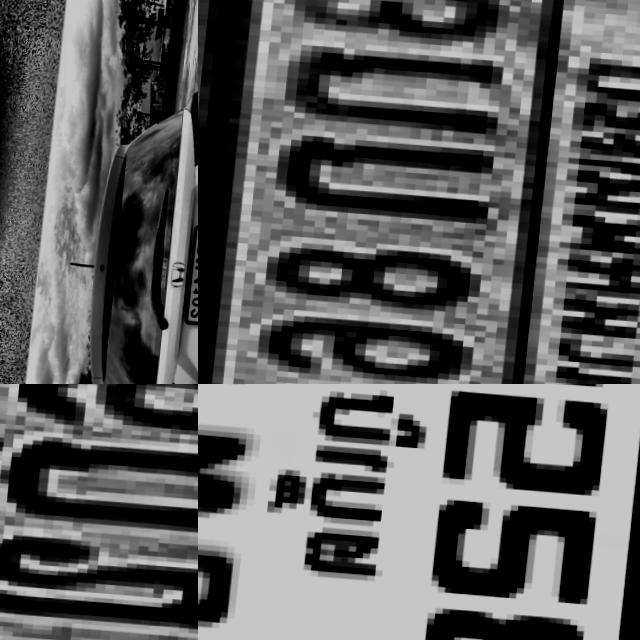license-plate: (198, 0, 640, 384), (198, 384, 640, 640), (0, 384, 198, 640), (185, 216, 198, 322)
